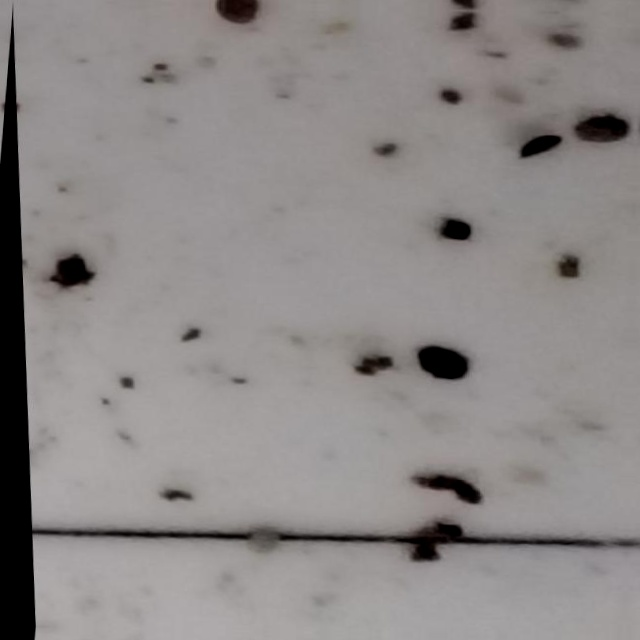varroa: (414, 346, 467, 383), (573, 115, 631, 148), (217, 5, 263, 29)
